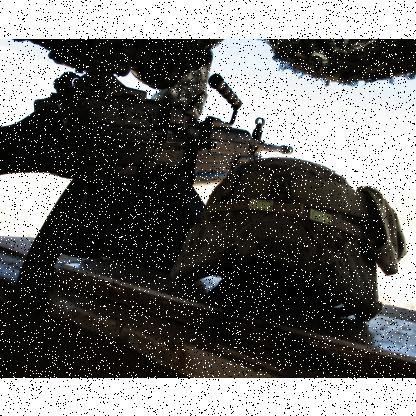gun: (2, 60, 260, 282)
